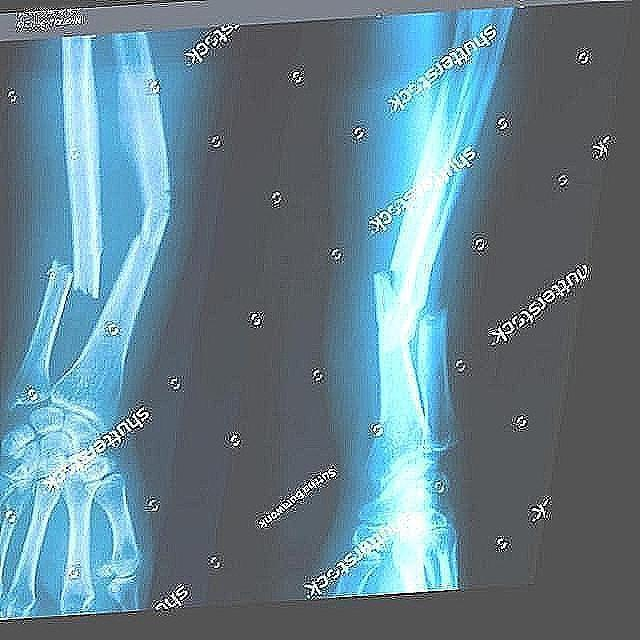bone: (367, 251, 422, 347), (35, 228, 104, 304), (118, 193, 178, 256)
